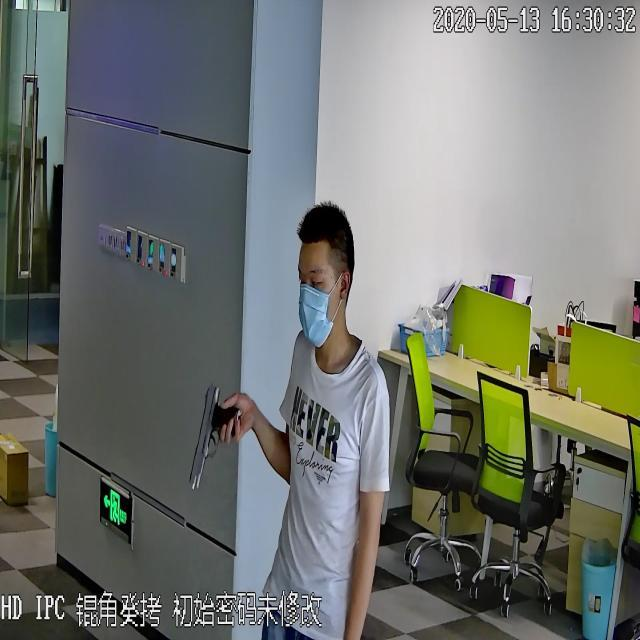gun: (184, 386, 238, 489)
